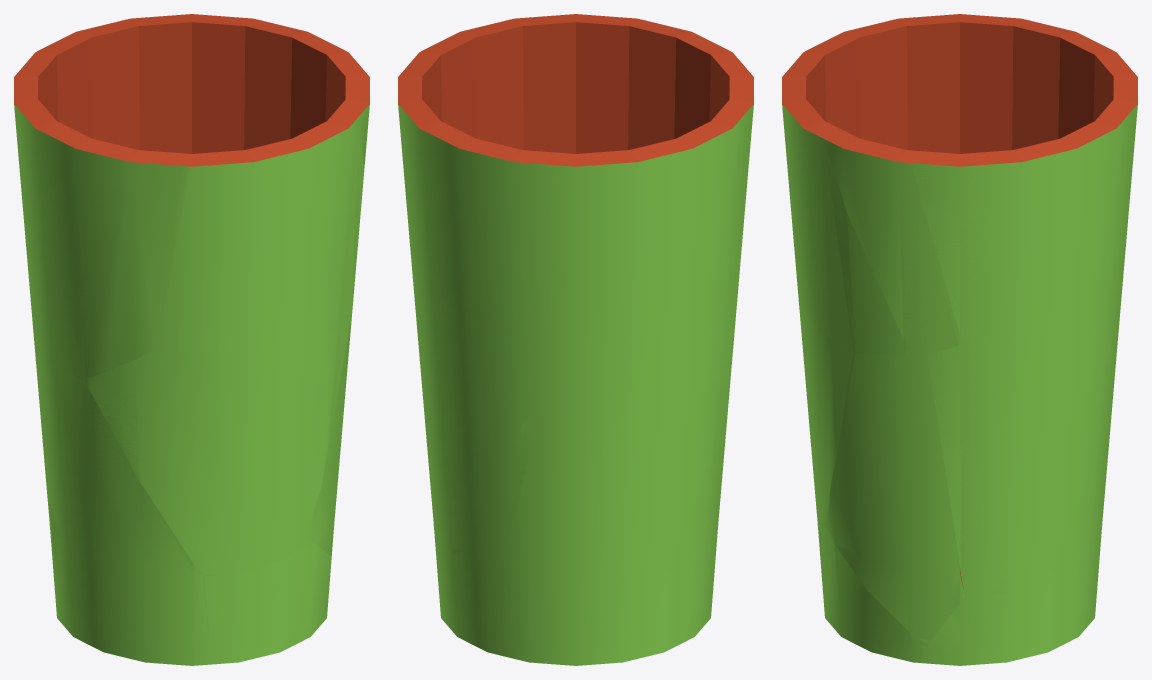
The model's file is P_GobeletColored_Breackable.fbx.
3 views of the same model, side by side, from view 1: azimuth 30°, elevation 25°; view 2: azimuth 150°, elevation 25°; view 3: azimuth 270°, elevation 25° (orthographic).
Visible parts, largest first — view 1: P_Gobelet_Colored_Breakable_cell.009, P_Gobelet_Colored_Breakable_cell.003, P_Gobelet_Colored_Breakable, P_Gobelet_Colored_Breakable_cell.013, P_Gobelet_Colored_Breakable_cell.006, P_Gobelet_Colored_Breakable_cell.007, P_Gobelet_Colored_Breakable_cell.001, P_Gobelet_Colored_Breakable_cell.012, P_Gobelet_Colored_Breakable_cell.004, P_Gobelet_Colored_Breakable_cell.005; view 2: P_Gobelet_Colored_Breakable, P_Gobelet_Colored_Breakable_cell.013, P_Gobelet_Colored_Breakable_cell.006, P_Gobelet_Colored_Breakable_cell.001; view 3: P_Gobelet_Colored_Breakable, P_Gobelet_Colored_Breakable_cell.004, P_Gobelet_Colored_Breakable_cell.013, P_Gobelet_Colored_Breakable_cell.003, P_Gobelet_Colored_Breakable_cell, P_Gobelet_Colored_Breakable_cell.007, P_Gobelet_Colored_Breakable_cell.009, P_Gobelet_Colored_Breakable_cell.012, P_Gobelet_Colored_Breakable_cell.005, P_Gobelet_Colored_Breakable_cell.011, P_Gobelet_Colored_Breakable_cell.001, P_Gobelet_Colored_Breakable_cell.002 (+1 smaller).
Part boxes in pixels (x1,y1,x2,y2): P_Gobelet_Colored_Breakable_cell.009: (85, 315, 350, 575); P_Gobelet_Colored_Breakable_cell.003: (157, 117, 363, 352); P_Gobelet_Colored_Breakable: (14, 14, 369, 664); P_Gobelet_Colored_Breakable_cell.013: (14, 83, 188, 378); P_Gobelet_Colored_Breakable_cell.006: (48, 368, 211, 665); P_Gobelet_Colored_Breakable_cell.007: (38, 22, 230, 153); P_Gobelet_Colored_Breakable_cell.001: (199, 14, 340, 150); P_Gobelet_Colored_Breakable_cell.012: (203, 540, 331, 664); P_Gobelet_Colored_Breakable_cell.004: (304, 314, 351, 556); P_Gobelet_Colored_Breakable_cell.005: (286, 52, 326, 139); P_Gobelet_Colored_Breakable: (398, 14, 751, 665); P_Gobelet_Colored_Breakable_cell.013: (645, 55, 753, 366); P_Gobelet_Colored_Breakable_cell.006: (682, 345, 732, 642); P_Gobelet_Colored_Breakable_cell.001: (398, 57, 437, 125); P_Gobelet_Colored_Breakable: (782, 22, 1137, 665); P_Gobelet_Colored_Breakable_cell.004: (827, 353, 964, 643); P_Gobelet_Colored_Breakable_cell.013: (808, 14, 1061, 153); P_Gobelet_Colored_Breakable_cell.003: (782, 104, 910, 354); P_Gobelet_Colored_Breakable_cell: (823, 139, 959, 352); P_Gobelet_Colored_Breakable_cell.007: (1030, 34, 1113, 145); P_Gobelet_Colored_Breakable_cell.009: (799, 304, 852, 524); P_Gobelet_Colored_Breakable_cell.012: (817, 523, 927, 663); P_Gobelet_Colored_Breakable_cell.005: (911, 163, 1018, 338); P_Gobelet_Colored_Breakable_cell.011: (927, 311, 1065, 594); P_Gobelet_Colored_Breakable_cell.001: (969, 124, 1111, 185); P_Gobelet_Colored_Breakable_cell.002: (1005, 519, 1102, 662).
Size of the model in its own units: 111 by 176 by 109.
